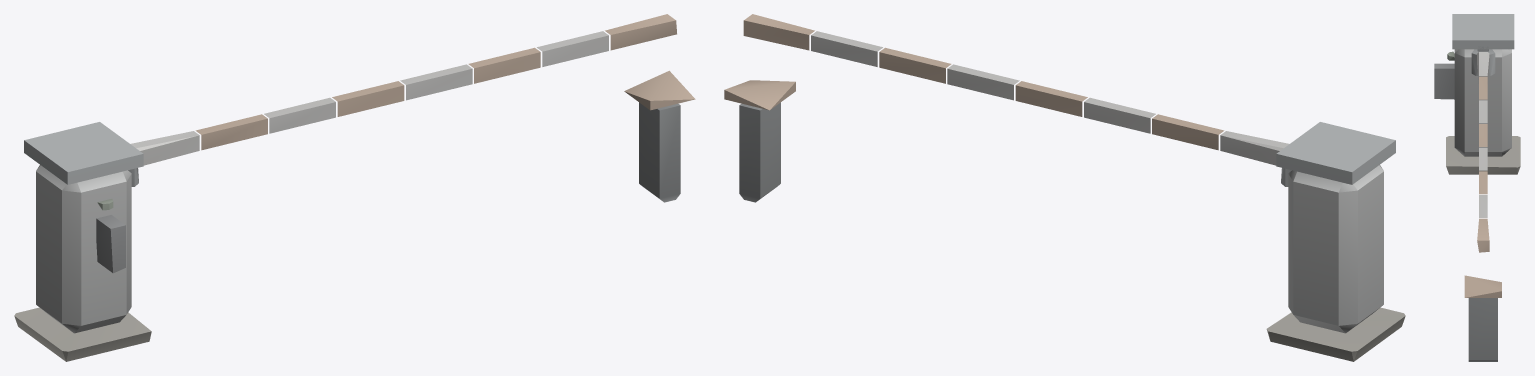
The model's file is barrier.lod1.glb.
3 views of the same model, side by side, from view 1: azimuth 30°, elevation 25°; view 2: azimuth 150°, elevation 25°; view 3: azimuth 270°, elevation 25° (orthographic). The views are drawn at different scales.
Bounding box in the file's own units: 4.25 × 1.18 × 0.694.
